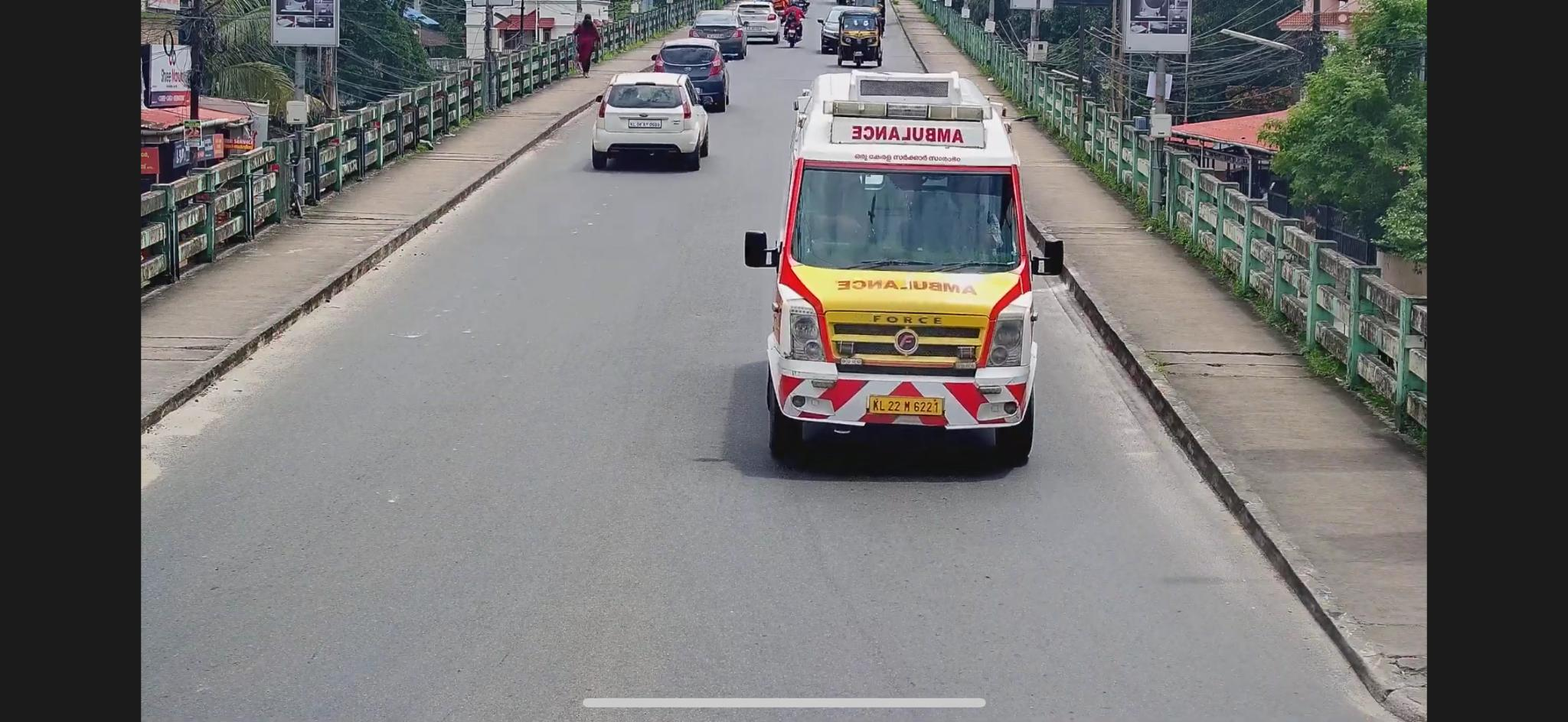ambulance: (762, 69, 1048, 466)
